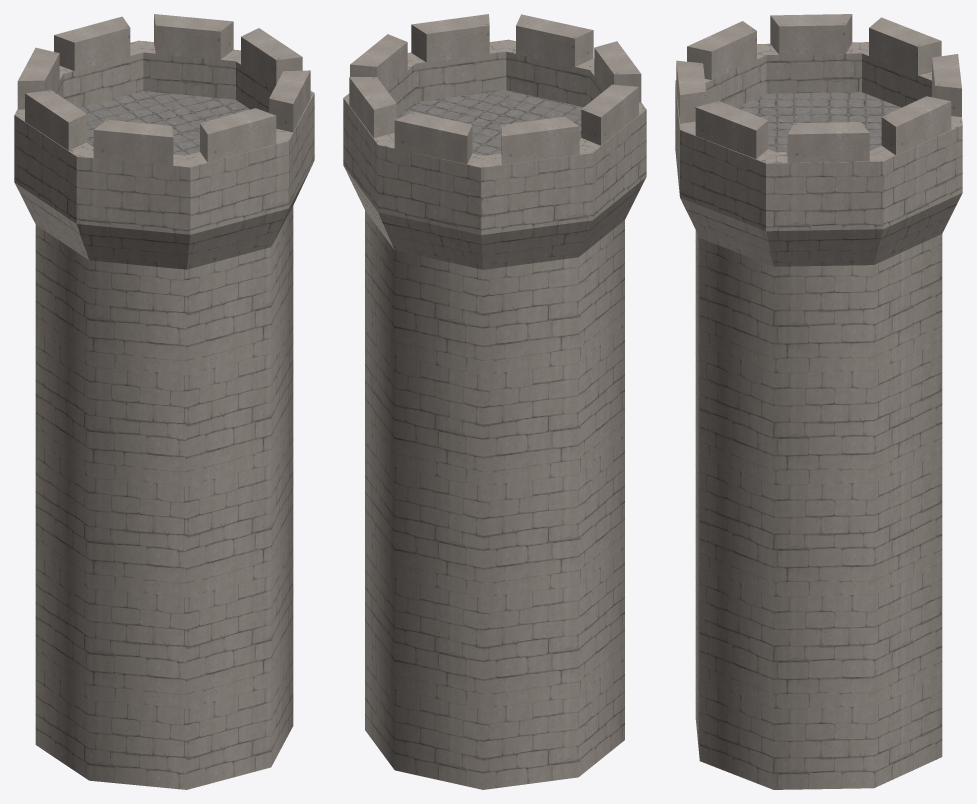
The model's file is Castle_B.fbx.
3 views of the same model, side by side, from view 1: azimuth 30°, elevation 25°; view 2: azimuth 150°, elevation 25°; view 3: azimuth 270°, elevation 25° (orthographic).
Parts seen in each view (by area): view 1: Castle_B; view 2: Castle_B; view 3: Castle_B.
Part boxes in pixels (left/top/right/bottom): Castle_B: left=14, top=14, right=314, bottom=789; Castle_B: left=343, top=14, right=646, bottom=789; Castle_B: left=675, top=14, right=962, bottom=789.
Bounding box in the file's own units: 2445 × 6225 × 2445.
2 materials, 2 textured.
